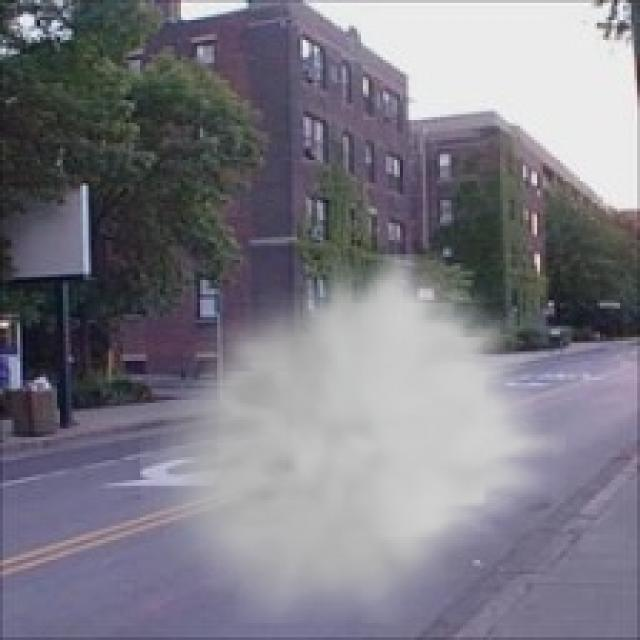smoke: (140, 254, 566, 623)
